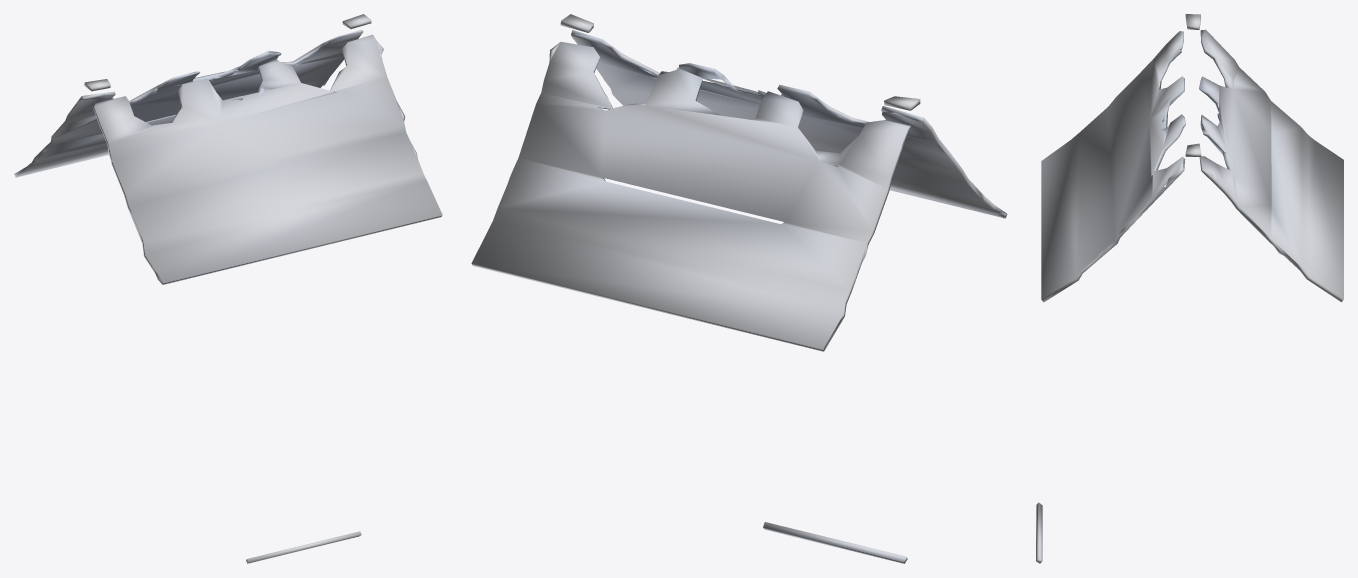
Rendered from protocol.frax.snow.glb.
3 renders of one model, left to right at view 1: azimuth 30°, elevation 25°; view 2: azimuth 150°, elevation 25°; view 3: azimuth 270°, elevation 25°, orthographic. The views are drawn at different scales.
Parts seen in each view (by area): view 1: building.protocol.frax.snow.mesh; view 2: building.protocol.frax.snow.mesh; view 3: building.protocol.frax.snow.mesh.
Boxes of the visible parts, x1,y1,x2,y2 form: building.protocol.frax.snow.mesh: (14, 14, 442, 563); building.protocol.frax.snow.mesh: (471, 14, 1007, 563); building.protocol.frax.snow.mesh: (1036, 14, 1343, 563).
Bounding box in the file's own units: 4.91 × 7.26 × 4.48.
